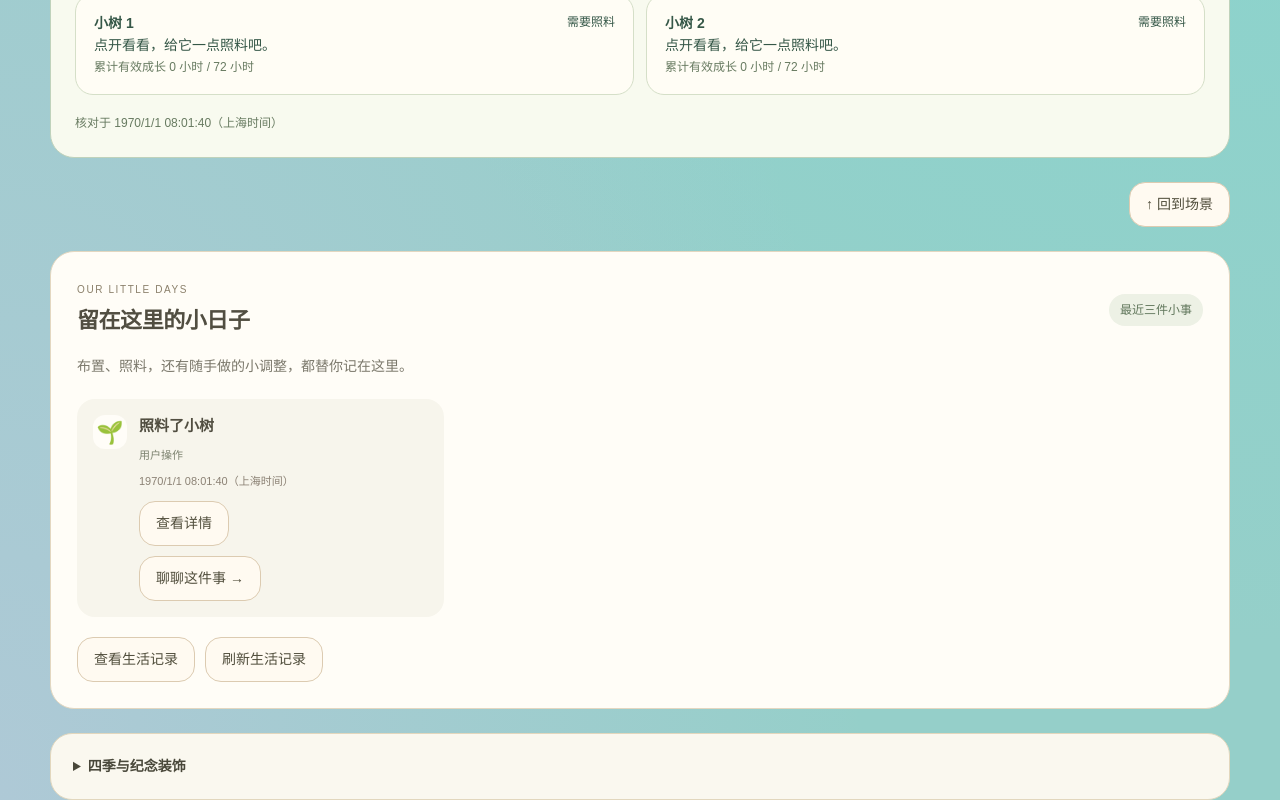
Scenario: provides no location in read-only desert or a hidden scene
The width and height of the screenshot is (1280, 800).
(page scrolled)
Click the button with aria-label "查看记录详情：照料了小树" at (184, 523), box [139, 500, 229, 546]
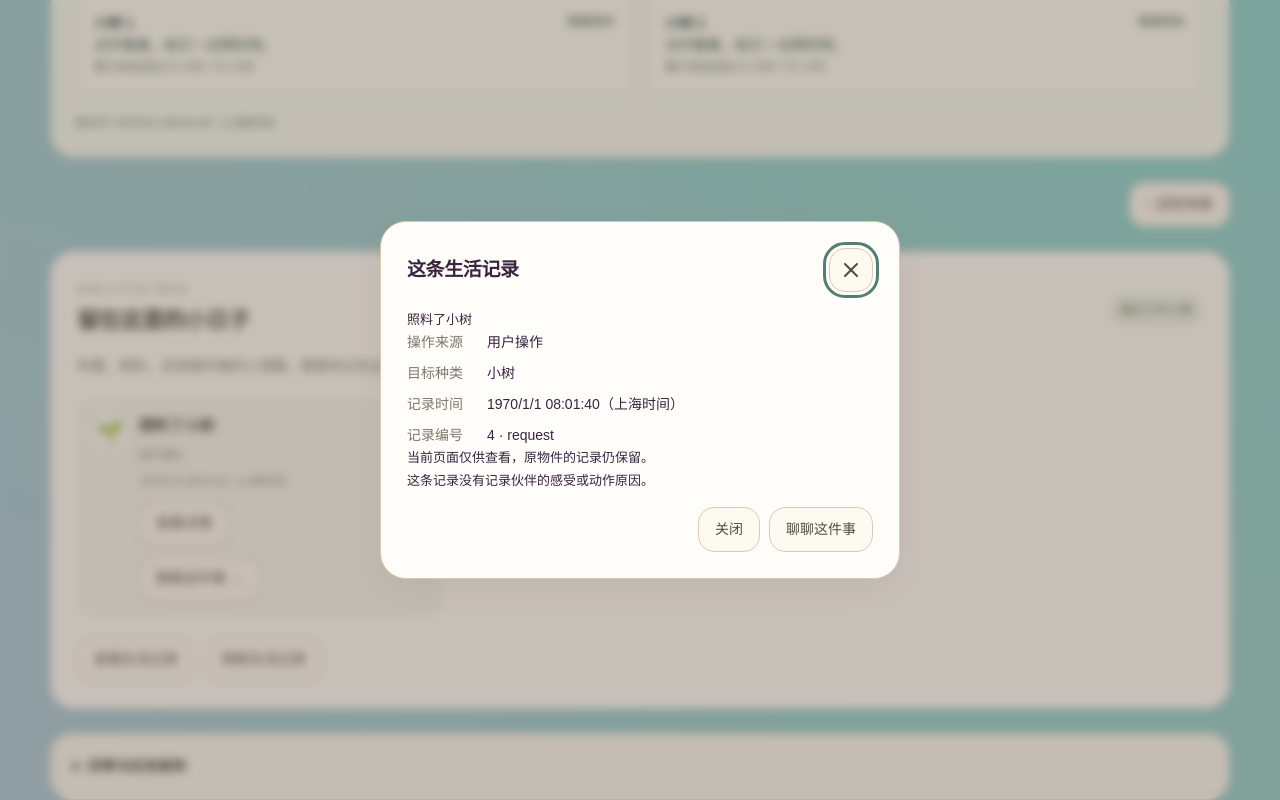
Expected: the text "当前页面仅供查看，原物件的记录仍保留。" is shown, [407, 450, 654, 465]
